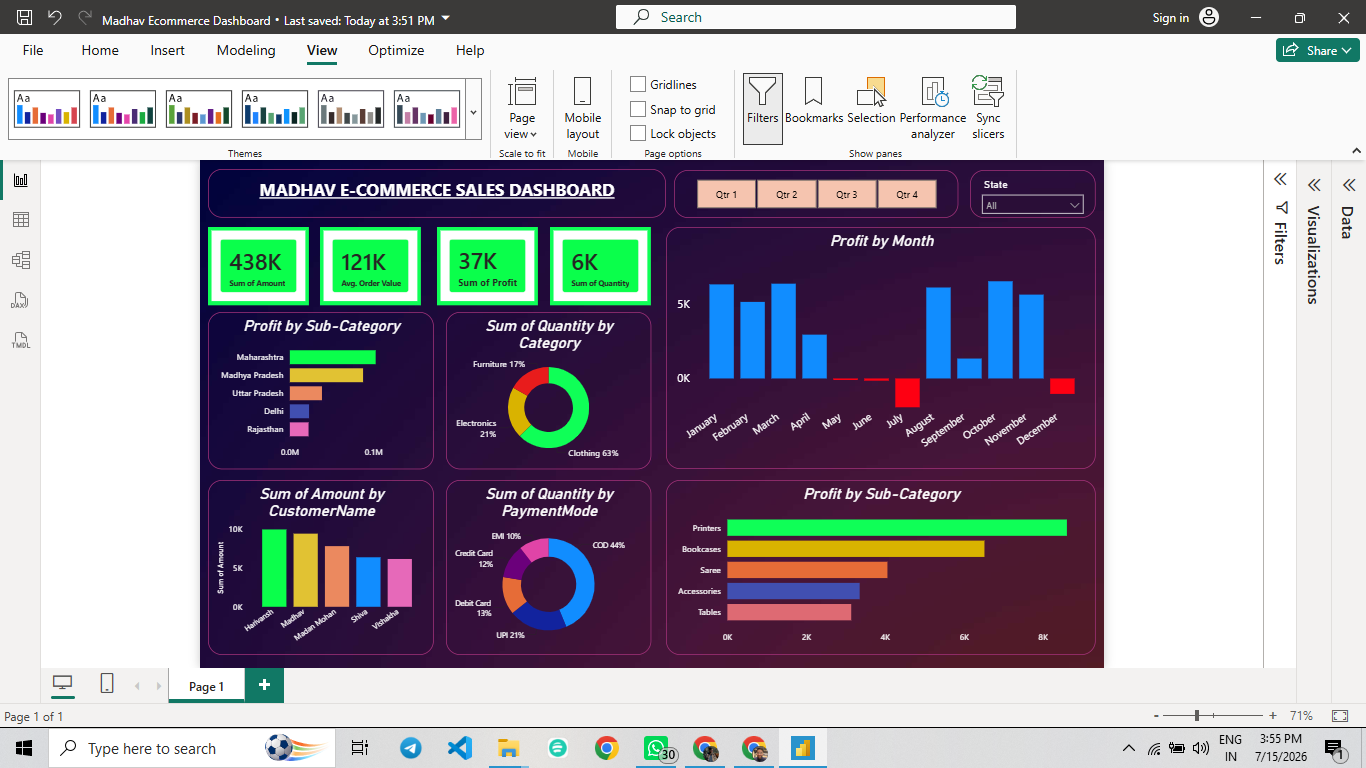

Layout of this report page (visuals, bound fields, positions):
{"tool":"powerbi","page":{"name":"Page 1","canvas":[1280,720],"ordinal":0},"visuals":[{"type":"textbox","box":[10.8,12.3,649.2,69.2],"z":0},{"type":"columnChart","title":"Profit by Month","fields":{"Category":["Orders.Order Date.Variation.Date Hierarchy.Month"],"Y":["Sum(Details.Profit)"]},"box":[660,95.4,609.2,343.1],"z":1000},{"type":"barChart","title":"Profit by Sub-Category","fields":{"Category":["Details.Sub-Category"],"Y":["Sum(Details.Profit)"]},"box":[660,453.8,609.2,247.7],"z":2000},{"type":"donutChart","fields":{"Category":["Details.Category","Orders.Order Date.Variation.Date Hierarchy.Year","Orders.Order Date.Variation.Date Hierarchy.Quarter","Orders.Order Date.Variation.Date Hierarchy.Month","Orders.Order Date.Variation.Date Hierarchy.Day"],"Y":["Sum(Details.Quantity)"]},"box":[349.2,215.4,290.8,223.1],"z":3000},{"type":"donutChart","fields":{"Category":["Details.PaymentMode"],"Y":["Sum(Details.Quantity)"]},"box":[349.2,453.8,290.8,247.7],"z":4000},{"type":"cardVisual","fields":{"Data":["Sum(Details.Avg. Order Value)"]},"box":[170.8,95.4,143.1,110.8],"z":5000},{"type":"cardVisual","fields":{"Data":["Sum(Details.Profit)"]},"box":[335.4,95.4,143.1,110.8],"z":6000},{"type":"cardVisual","fields":{"Data":["Sum(Details.Quantity)"]},"box":[495.4,95.4,143.1,110.8],"z":7000},{"type":"barChart","title":"Profit by Sub-Category","fields":{"Category":["Orders.State"],"Y":["Sum(Details.Amount)"]},"box":[10.8,215.4,320,223.1],"z":8000},{"type":"clusteredColumnChart","fields":{"Category":["Orders.CustomerName"],"Y":["Sum(Details.Amount)"]},"box":[10.8,453.8,320,247.7],"z":9000},{"type":"cardVisual","fields":{"Data":["Sum(Details.Amount)"]},"box":[10.8,95.4,143.1,110.8],"z":10000},{"type":"slicer","fields":{"Values":["Orders.Order Date.Variation.Date Hierarchy.Quarter"]},"box":[672.3,13.8,403.1,67.7],"z":10001},{"type":"slicer","fields":{"Values":["Orders.State"]},"box":[1090.8,13.8,178.5,67.7],"z":10002}]}

Visuals, with their boxes on the page's 1280x720 design canvas (x1, y1, x2, y2). These are canvas units, not pixel positions in the 1366x768 screenshot, which may show the page scaled, cropped or inside an application window:
textbox: BBox(11, 12, 660, 82)
"Profit by Month" columnChart: BBox(660, 95, 1269, 438)
"Profit by Sub-Category" barChart: BBox(660, 454, 1269, 702)
donutChart - Details.Category x Orders.Order Date.Variation.Date Hierarchy.Year: BBox(349, 215, 640, 438)
donutChart - Details.PaymentMode x Sum(Details.Quantity): BBox(349, 454, 640, 702)
cardVisual - Sum(Details.Avg. Order Value): BBox(171, 95, 314, 206)
cardVisual - Sum(Details.Profit): BBox(335, 95, 478, 206)
cardVisual - Sum(Details.Quantity): BBox(495, 95, 638, 206)
"Profit by Sub-Category" barChart: BBox(11, 215, 331, 438)
clusteredColumnChart - Orders.CustomerName x Sum(Details.Amount): BBox(11, 454, 331, 702)
cardVisual - Sum(Details.Amount): BBox(11, 95, 154, 206)
slicer - Orders.Order Date.Variation.Date Hierarchy.Quarter: BBox(672, 14, 1075, 82)
slicer - Orders.State: BBox(1091, 14, 1269, 82)
